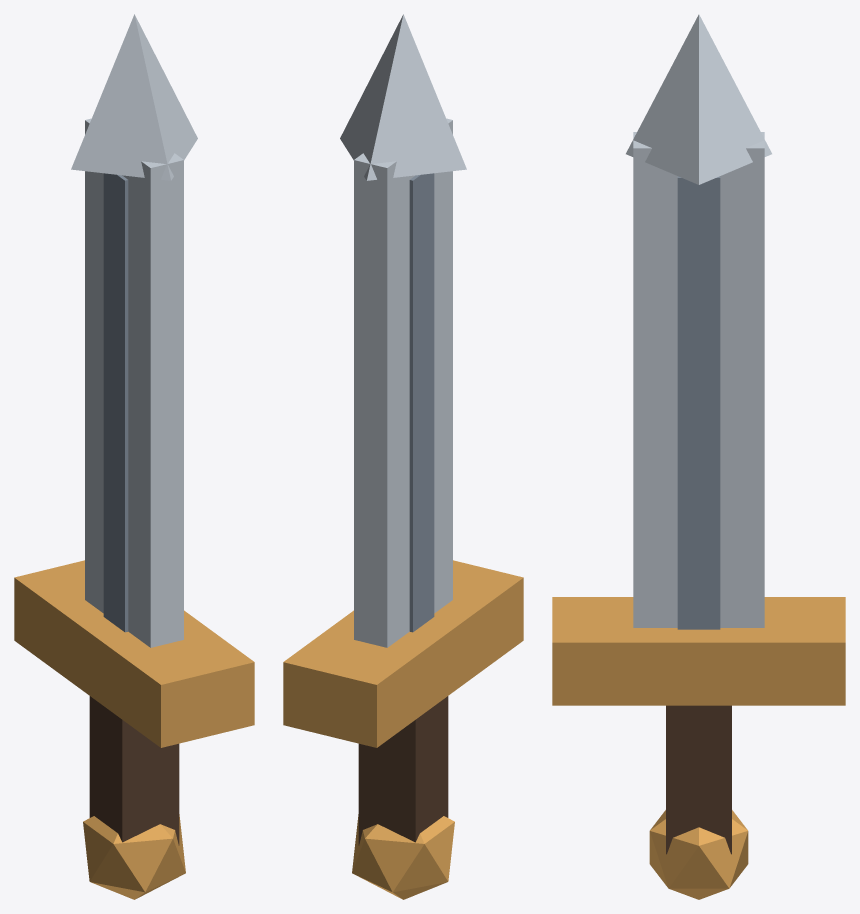
File: weapon_sword.glb
3 views of the same model, side by side, from view 1: azimuth 30°, elevation 25°; view 2: azimuth 150°, elevation 25°; view 3: azimuth 270°, elevation 25° (orthographic).
Visible parts, largest first — view 1: blade, guard, ridge, tip, grip, pommel; view 2: blade, guard, ridge, tip, grip, pommel; view 3: blade, guard, ridge, tip, grip, pommel.
Boxes of the visible parts, box(x1,y1,x2,y2) form: blade: box(85, 118, 183, 647); guard: box(14, 560, 254, 747); ridge: box(103, 173, 128, 632); tip: box(71, 14, 197, 180); grip: box(89, 696, 179, 845); pommel: box(83, 814, 185, 899); blade: box(354, 118, 452, 647); guard: box(283, 560, 523, 747); ridge: box(409, 173, 434, 632); tip: box(340, 14, 466, 180); grip: box(358, 696, 448, 845); pommel: box(352, 814, 454, 899); blade: box(633, 132, 764, 627); guard: box(552, 597, 845, 705); ridge: box(677, 176, 720, 629); tip: box(626, 14, 771, 184); grip: box(666, 705, 731, 854); pommel: box(649, 810, 748, 899).
Bounding box in the file's own units: 0.19 × 1.27 × 0.38.
